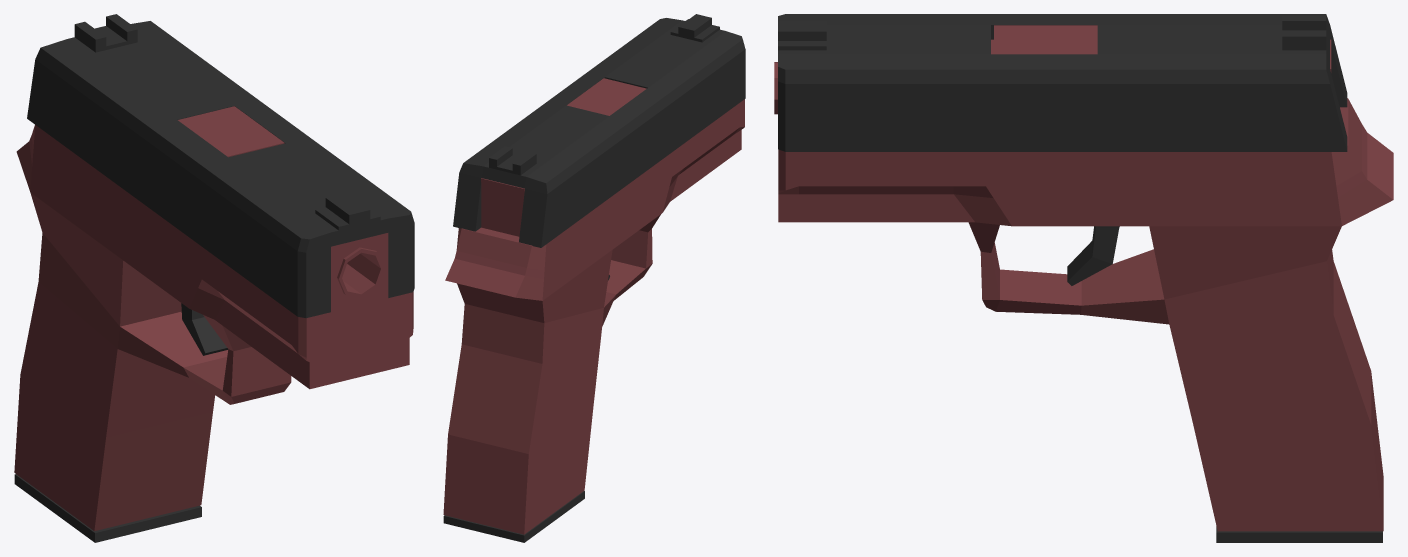
The model's file is GlockToImport.fbx.
3 views of the same model, side by side, from view 1: azimuth 30°, elevation 25°; view 2: azimuth 150°, elevation 25°; view 3: azimuth 270°, elevation 25° (orthographic). The views are drawn at different scales.
Parts seen in each view (by area): view 1: GlockFrame, Slide, Mag, Trigger; view 2: GlockFrame, Slide, Mag; view 3: GlockFrame, Slide, Mag, Trigger.
Part boxes in pixels (left/top/right/bottom): GlockFrame: left=14, top=106, right=413, bottom=530; Slide: left=27, top=14, right=414, bottom=318; Mag: left=14, top=474, right=201, bottom=542; Trigger: left=181, top=303, right=228, bottom=355; GlockFrame: left=443, top=78, right=744, bottom=534; Slide: left=453, top=14, right=745, bottom=247; Mag: left=443, top=491, right=584, bottom=542; GlockFrame: left=774, top=25, right=1393, bottom=531; Slide: left=778, top=14, right=1347, bottom=151; Mag: left=1216, top=526, right=1382, bottom=542; Trigger: left=1067, top=226, right=1119, bottom=285.
Bounding box in the file's own units: 172 × 664 × 761.
